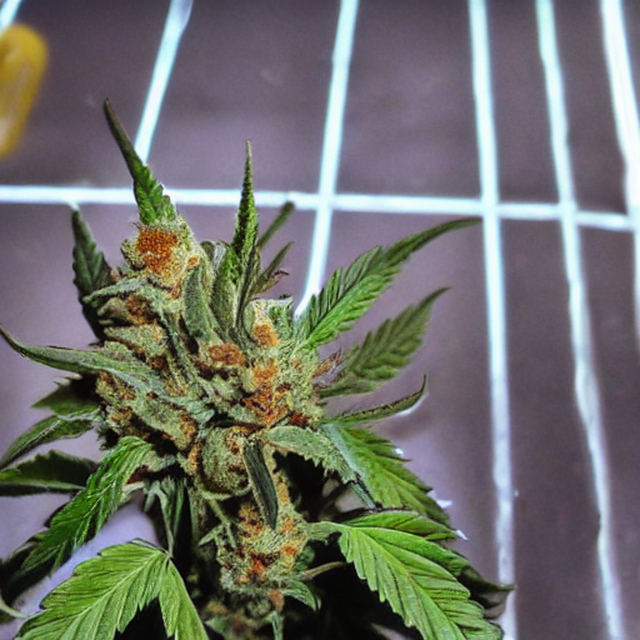Marijuana Plant: (1, 134, 498, 639)
